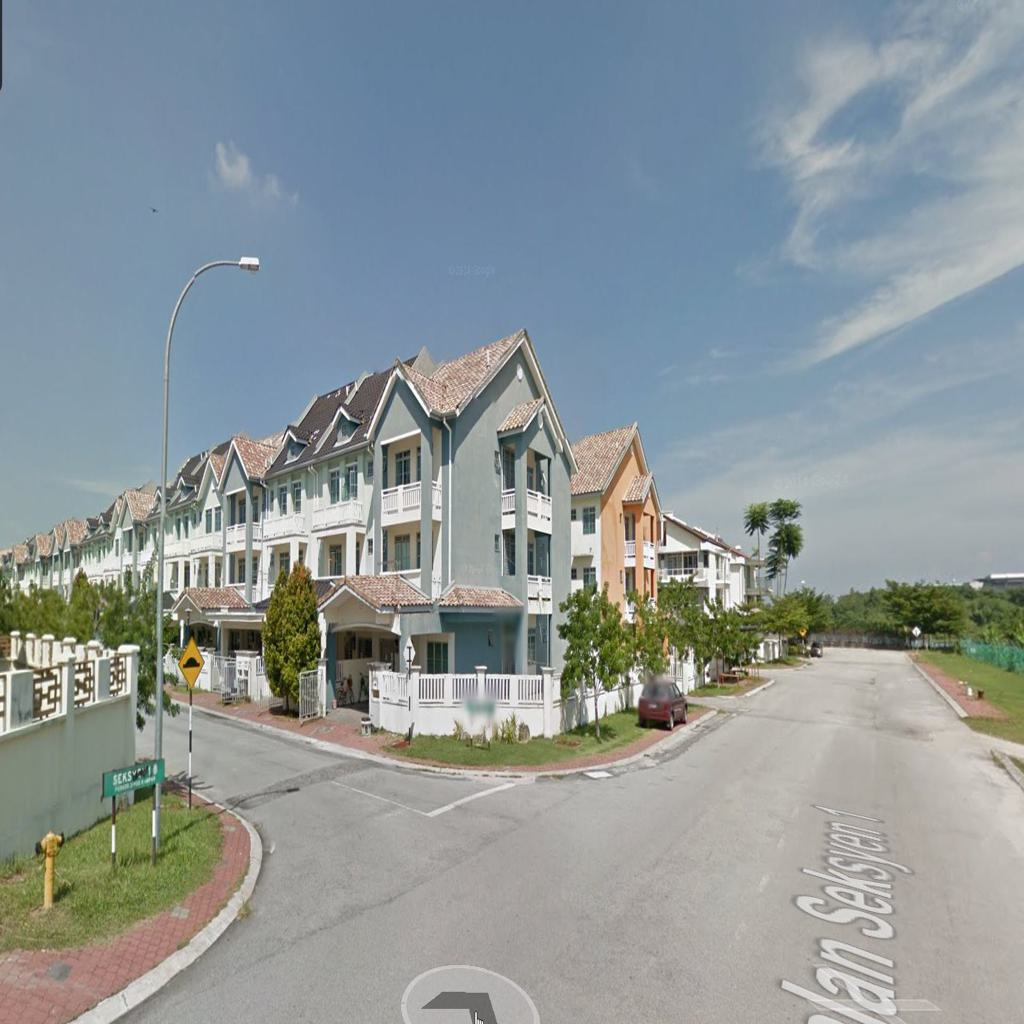Junction: (165, 715, 574, 924)
